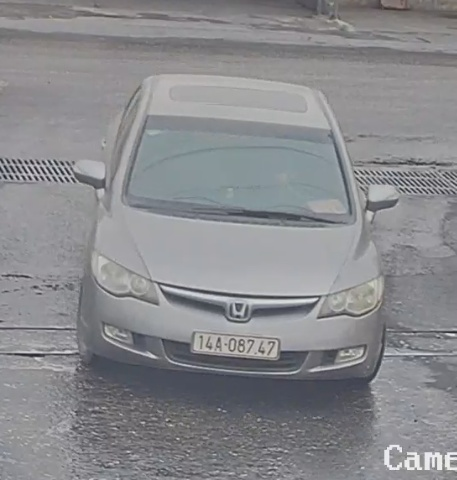vehicle plate: (185, 321, 283, 363)
